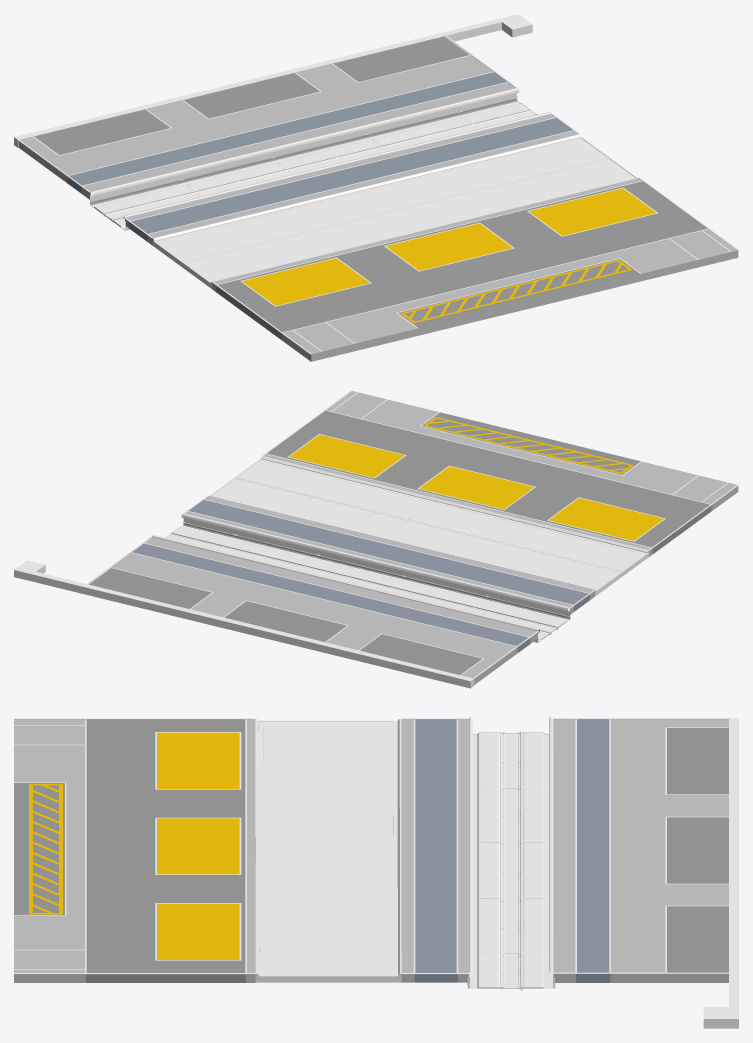
The picture shows the model from 3 angles, top to bottom: view 1: azimuth 30°, elevation 25°; view 2: azimuth 150°, elevation 25°; view 3: azimuth 270°, elevation 25°; orthographic projection. The views are drawn at different scales.
Parts seen in each view (by area): view 1: SM_I_RoadFacility_Ground_B_07; view 2: SM_I_RoadFacility_Ground_B_07; view 3: SM_I_RoadFacility_Ground_B_07.
Part boxes in pixels (x1=…): SM_I_RoadFacility_Ground_B_07: x1=14, y1=14, x2=738, y2=361; SM_I_RoadFacility_Ground_B_07: x1=14, y1=390, x2=738, y2=688; SM_I_RoadFacility_Ground_B_07: x1=14, y1=717, x2=738, y2=1028.
Bounding box in the file's own units: 2045 × 2008 × 56.35.
